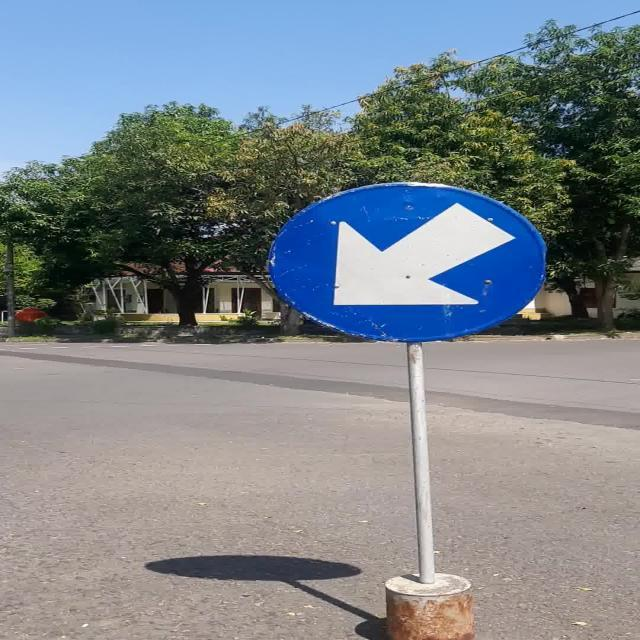Lajur Kiri: (269, 182, 545, 342)
